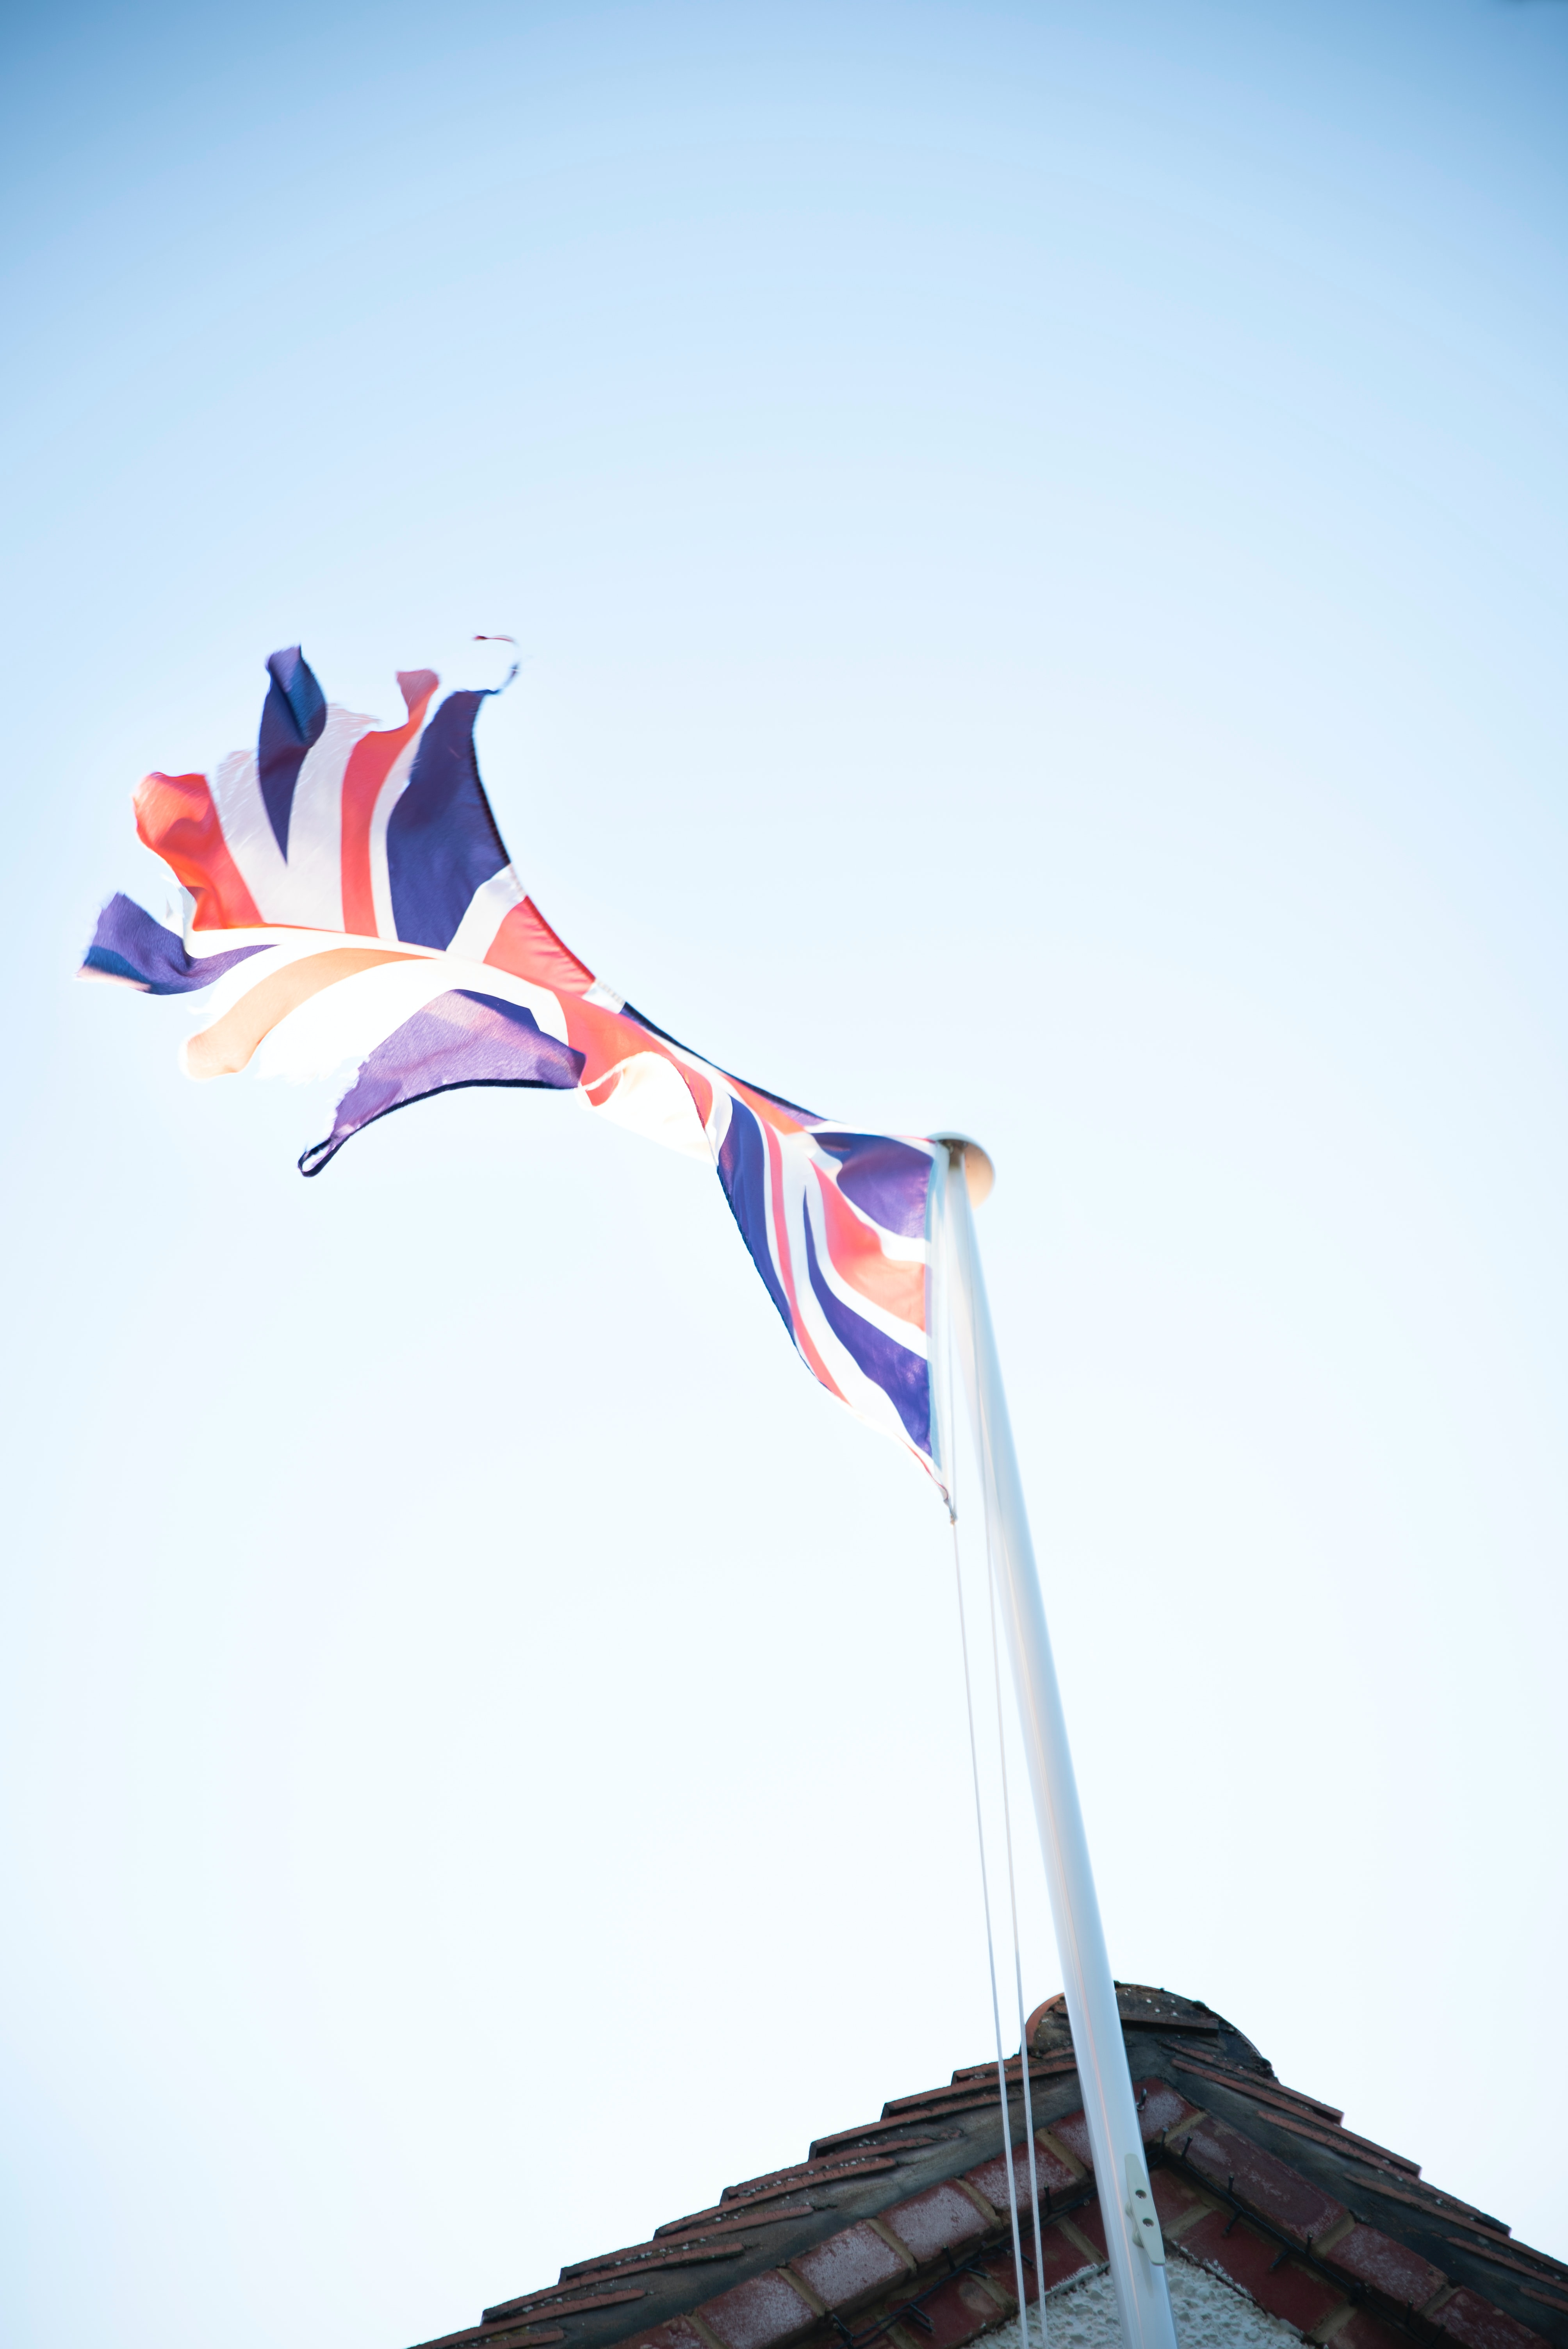Flag: (79, 627, 945, 1488)
